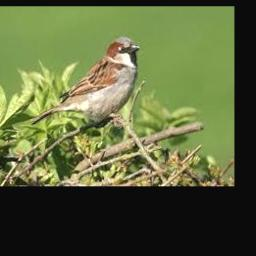Sparrow: (29, 37, 140, 127)
